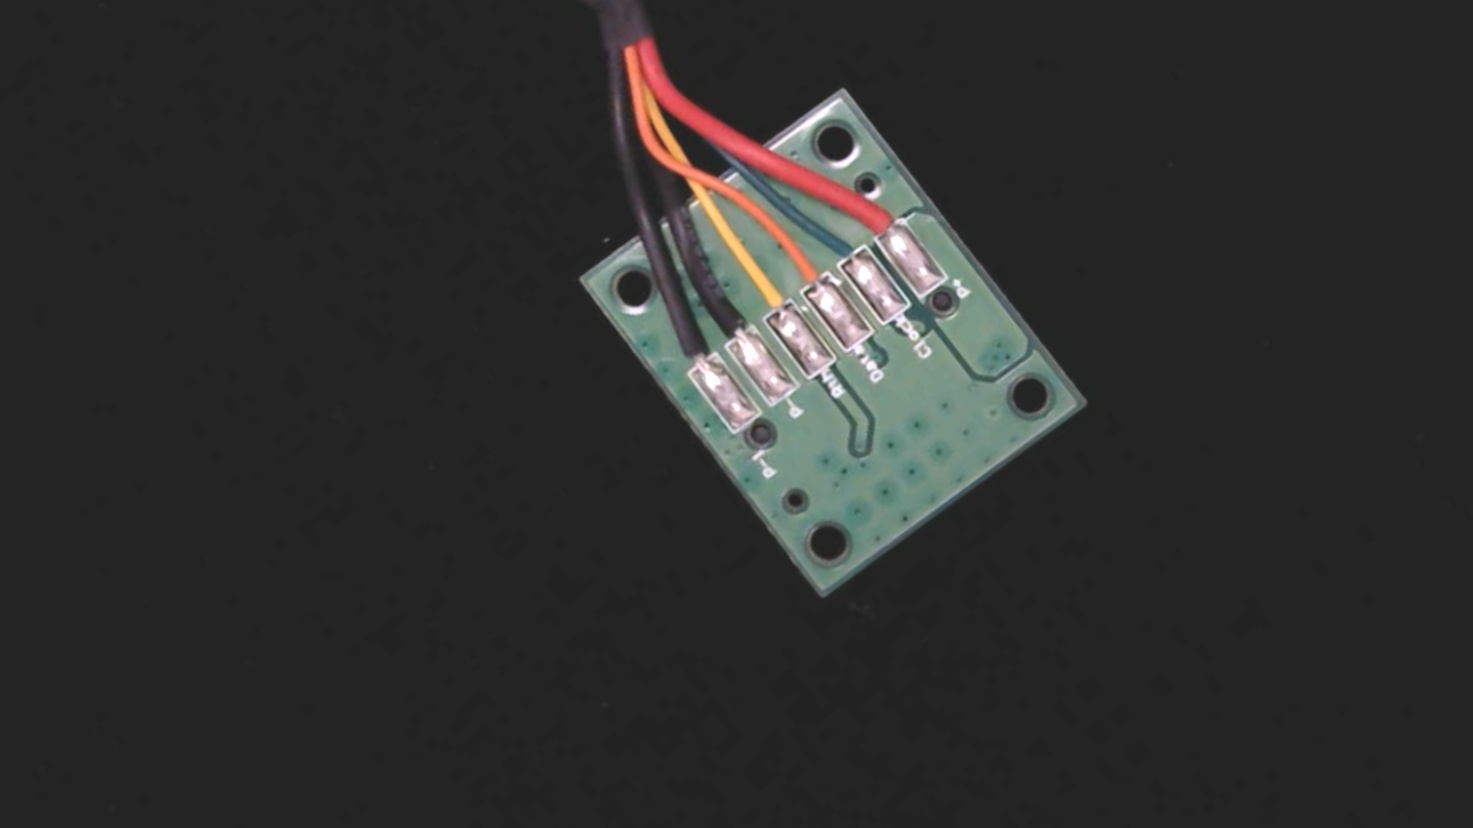Black: (683, 271, 770, 366)
Black1: (647, 304, 729, 392)
Green: (811, 208, 882, 284)
Orange: (760, 219, 842, 308)
Red: (834, 168, 919, 259)
Yellow: (719, 242, 806, 337)
